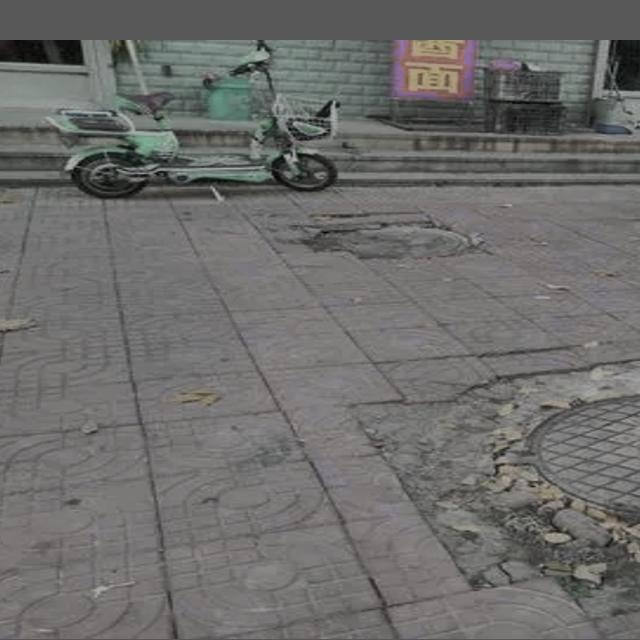circle: (378, 354, 640, 610)
